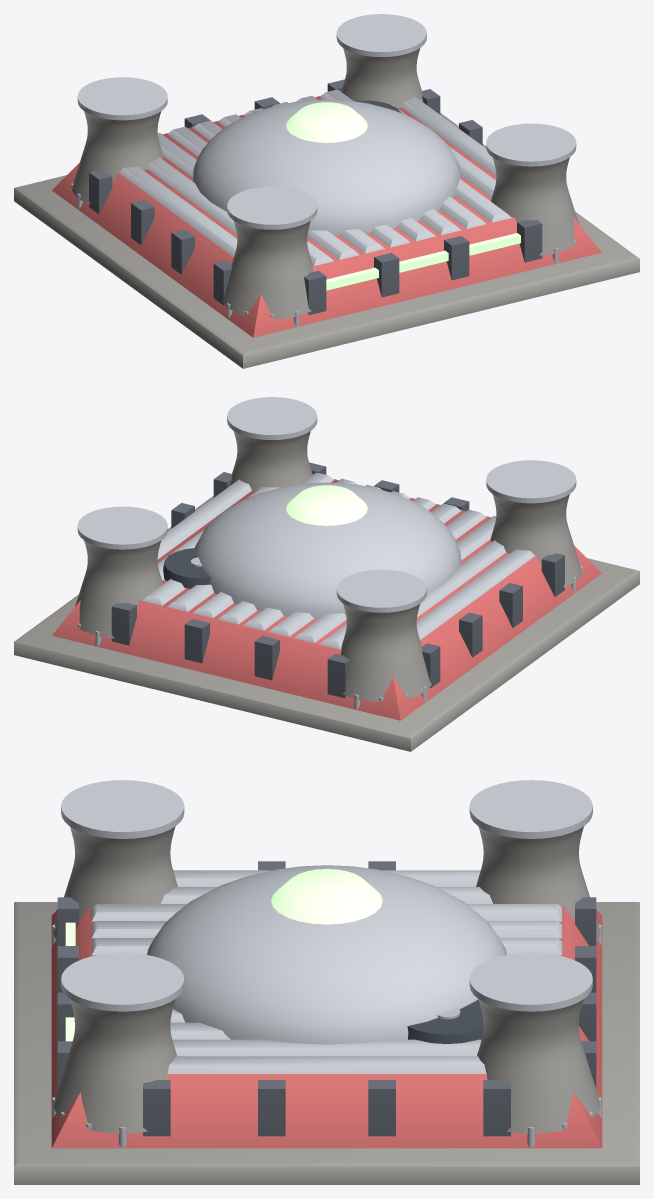
The model's file is nanrct.glb.
3 views of the same model, one above another, from view 1: azimuth 30°, elevation 25°; view 2: azimuth 150°, elevation 25°; view 3: azimuth 270°, elevation 25° (orthographic). The views are drawn at different scales.
Parts seen in each view (by area): view 1: Hull; view 2: Hull; view 3: Hull.
Boxes of the visible parts, x1,y1,x2,y2 form: Hull: (14, 14, 639, 368); Hull: (14, 397, 639, 751); Hull: (14, 780, 639, 1184).
Size of the model in its own units: 6.84 by 2.01 by 6.84.
